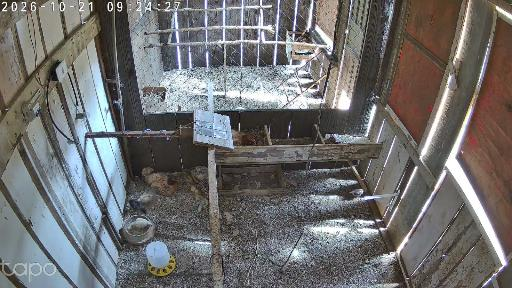frango: (184, 166, 209, 180)
galinha: (144, 173, 181, 197), (231, 128, 257, 146), (296, 30, 311, 44)
pintinho: (128, 199, 147, 213), (130, 218, 152, 228), (195, 197, 208, 210), (181, 172, 193, 184), (189, 187, 202, 196), (138, 195, 154, 202), (349, 189, 364, 196), (141, 167, 153, 174)
